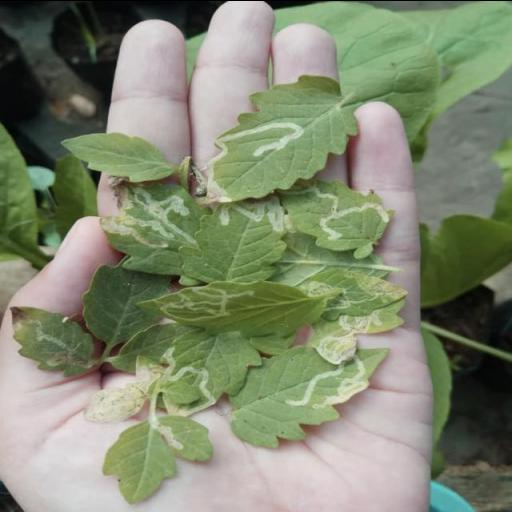Healthy: (58, 132, 178, 182)
Leaf Miner: (203, 72, 361, 202), (230, 344, 394, 446), (133, 280, 321, 336), (276, 178, 395, 262), (102, 414, 212, 504), (97, 182, 199, 250), (8, 303, 96, 378), (301, 268, 408, 318)
